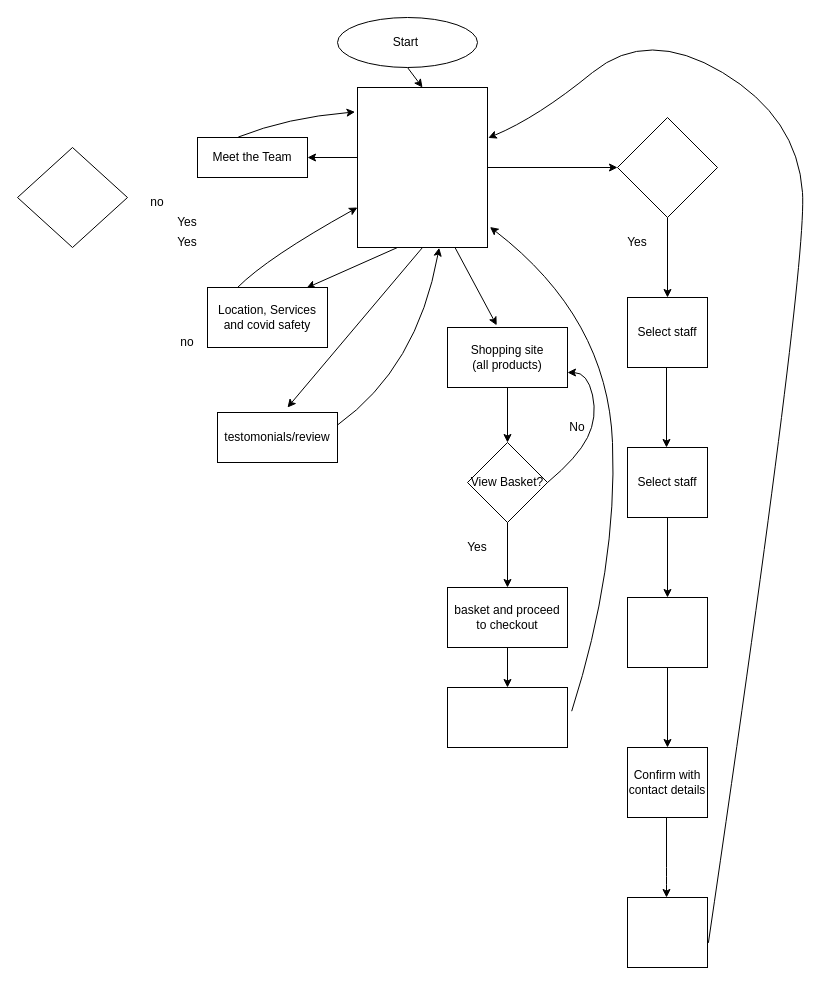
Image size: 821x985. Some labels were removed from this diagram. Here are the shapes that lost their labels. From the top down, the box of each, then its label:
(356, 86, 488, 248): Landing page - book appointment link - shop link - our team - services - gifts
(616, 116, 718, 218): book an appointment?
(626, 596, 708, 668): select date and time
(446, 686, 568, 748): confirm info, P&P, bank details
(626, 896, 708, 968): booking confirmation and send email
